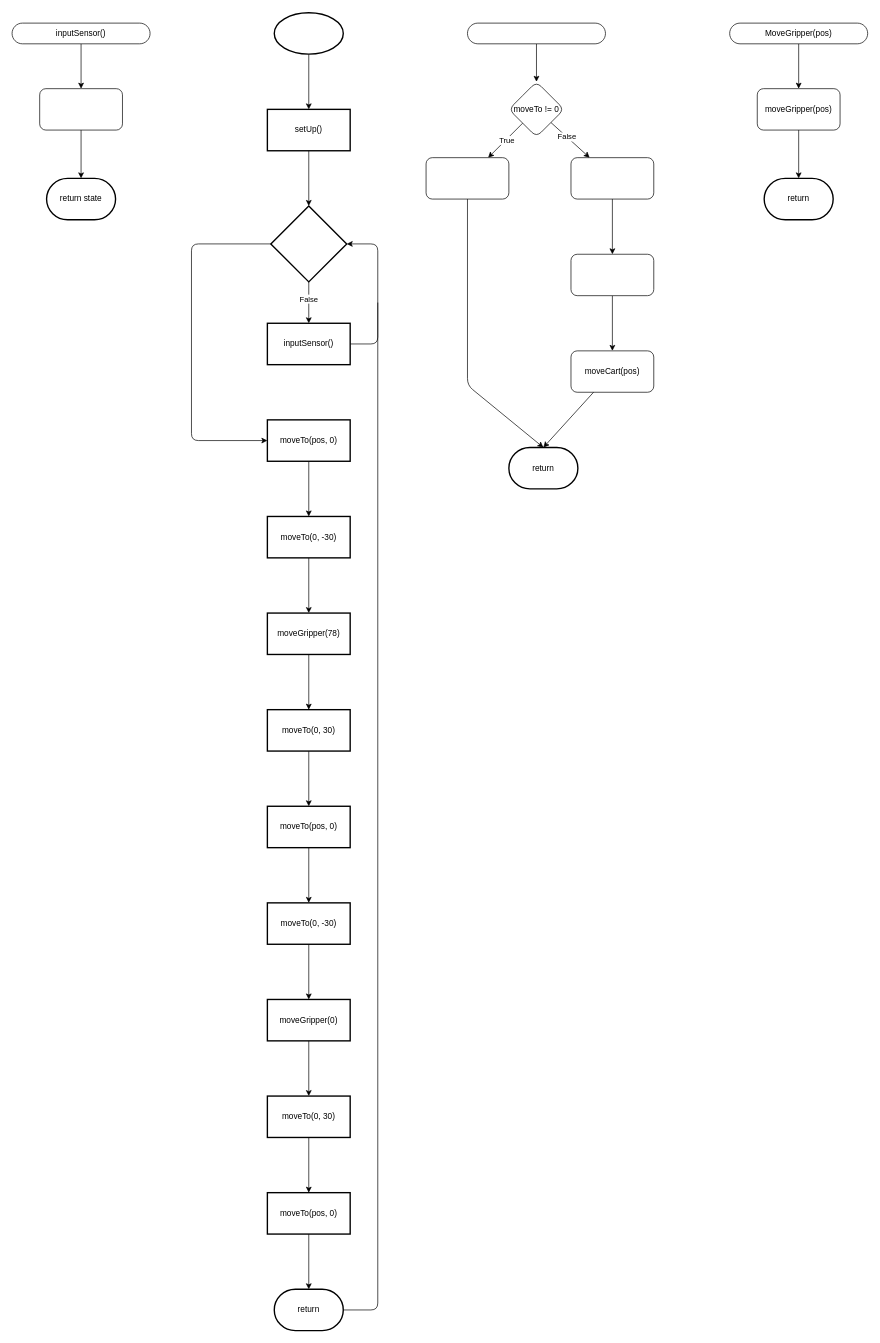
This 880x1343 diagram has some shape labels left out. The shapes that lost their labels are listed below. From the top down, each one's centre as x and y in pixels, then its label:
At [308,33]: "Start Robot.RPC()".
At [536,33]: "MoveTo(moveTo, dif)".
At [80,109]: "GetDI(1)".
At [467,178]: "moveJ(pos)".
At [612,178]: "GetActualTCPPose()".
At [308,243]: "While sensor == False".
At [612,275]: "pos[2] +- dif".
